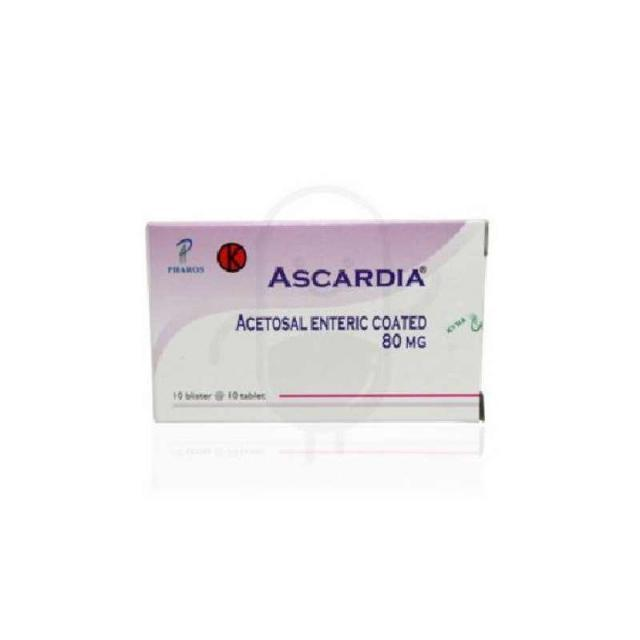drug-name: (258, 268, 430, 292)
